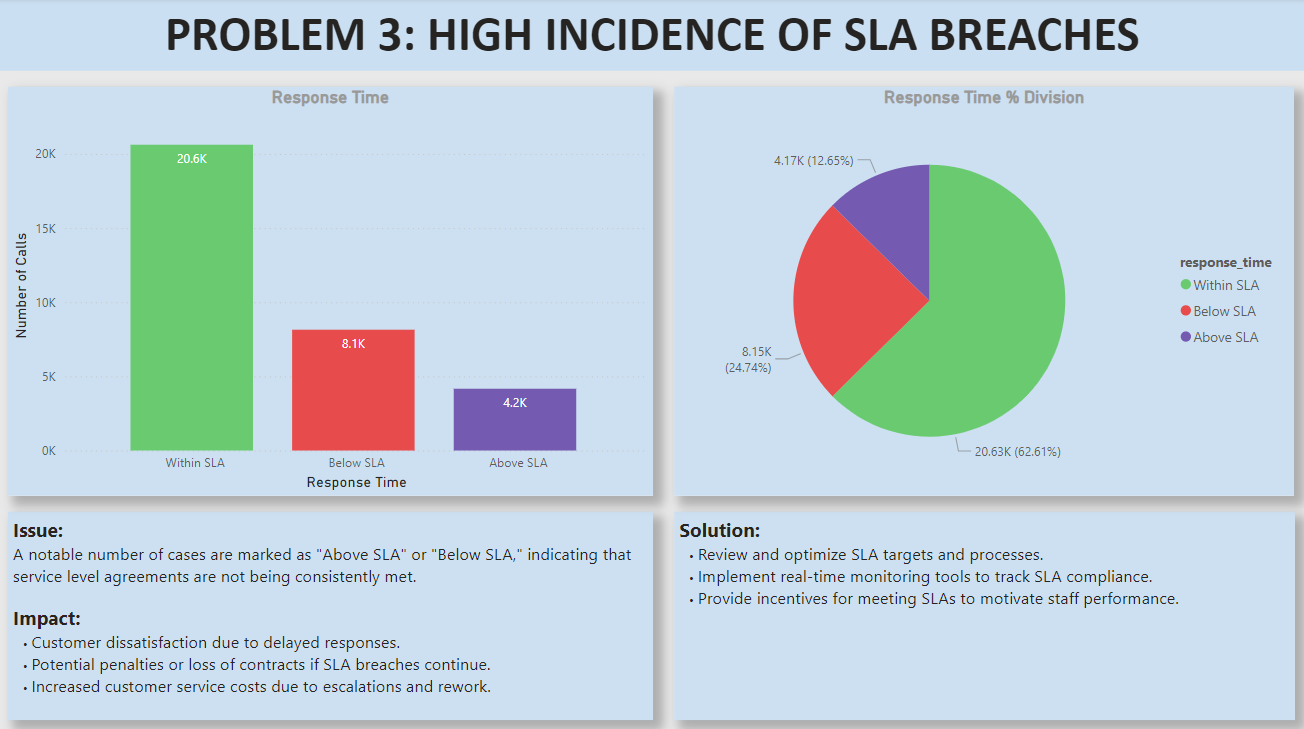

Layout of this report page (visuals, bound fields, positions):
{"tool":"powerbi","page":{"name":"Problem 3","canvas":[1280,720],"ordinal":3},"visuals":[{"type":"textbox","box":[0,0,1280.3,70.9],"z":0},{"type":"columnChart","title":"Response Time","fields":{"Category":["Hospitality call center data.response_time"],"Y":["CountNonNull(Hospitality call center data.response_time)"]},"box":[9.8,86.8,631,399.9],"z":1000},{"type":"pieChart","title":"Response Time % Division","fields":{"Y":["CountNonNull(Hospitality call center data.response_time)"],"Category":["Hospitality call center data.response_time"]},"box":[661.6,86.8,606.5,399.9],"z":2000},{"type":"textbox","box":[9.8,502.6,631,204.2],"z":3000},{"type":"textbox","box":[662,503,607,204],"z":4000}]}

Visuals, with their boxes in screenshot pixels (x1, y1, x2, y2), scaled from the page's 1280x720 canvas onto the 1304x729 screenshot:
textbox: pyautogui.locateOnScreen(0, 0, 1303, 72)
"Response Time" columnChart: pyautogui.locateOnScreen(10, 88, 653, 493)
"Response Time % Division" pieChart: pyautogui.locateOnScreen(674, 88, 1292, 493)
textbox: pyautogui.locateOnScreen(10, 509, 653, 716)
textbox: pyautogui.locateOnScreen(674, 509, 1293, 716)
